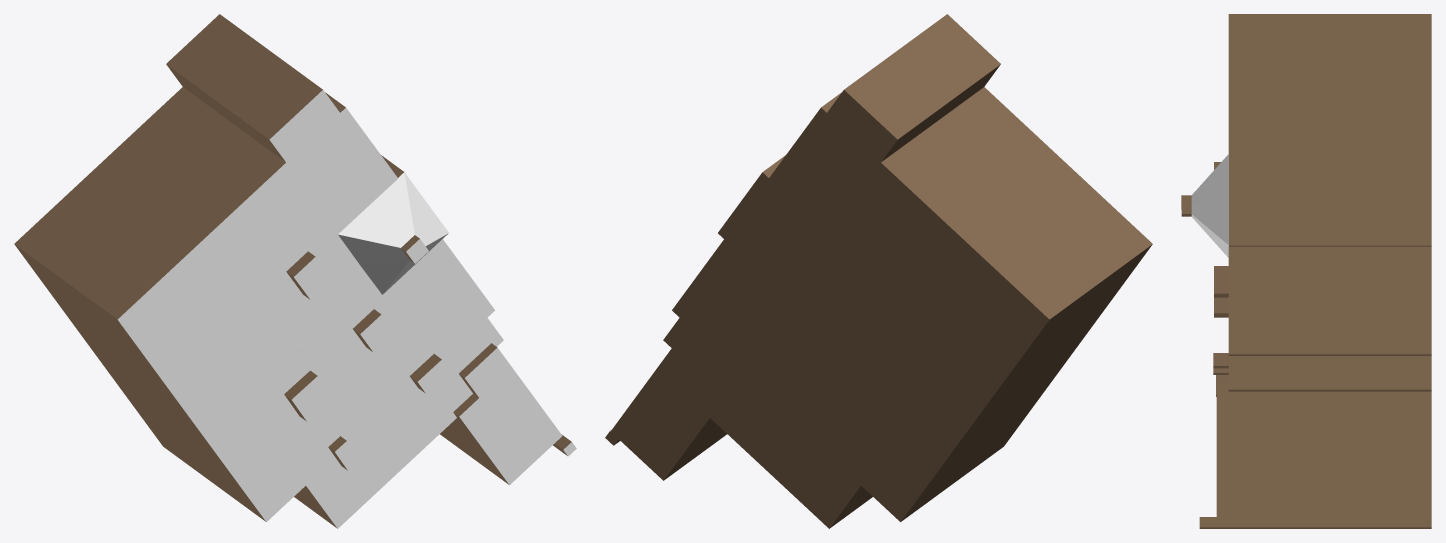
3 views of the same model, side by side, from view 1: azimuth 30°, elevation 25°; view 2: azimuth 150°, elevation 25°; view 3: azimuth 270°, elevation 25° (orthographic).
Visible parts, largest first — view 1: City_PC-08735; view 2: City_PC-08735; view 3: City_PC-08735.
Part boxes in pixels (x1=…): City_PC-08735: x1=14, y1=14, x2=576, y2=528; City_PC-08735: x1=605, y1=14, x2=1152, y2=528; City_PC-08735: x1=1181, y1=14, x2=1431, y2=528.
Size of the model in its own units: 4003 by 3810 by 1987.
